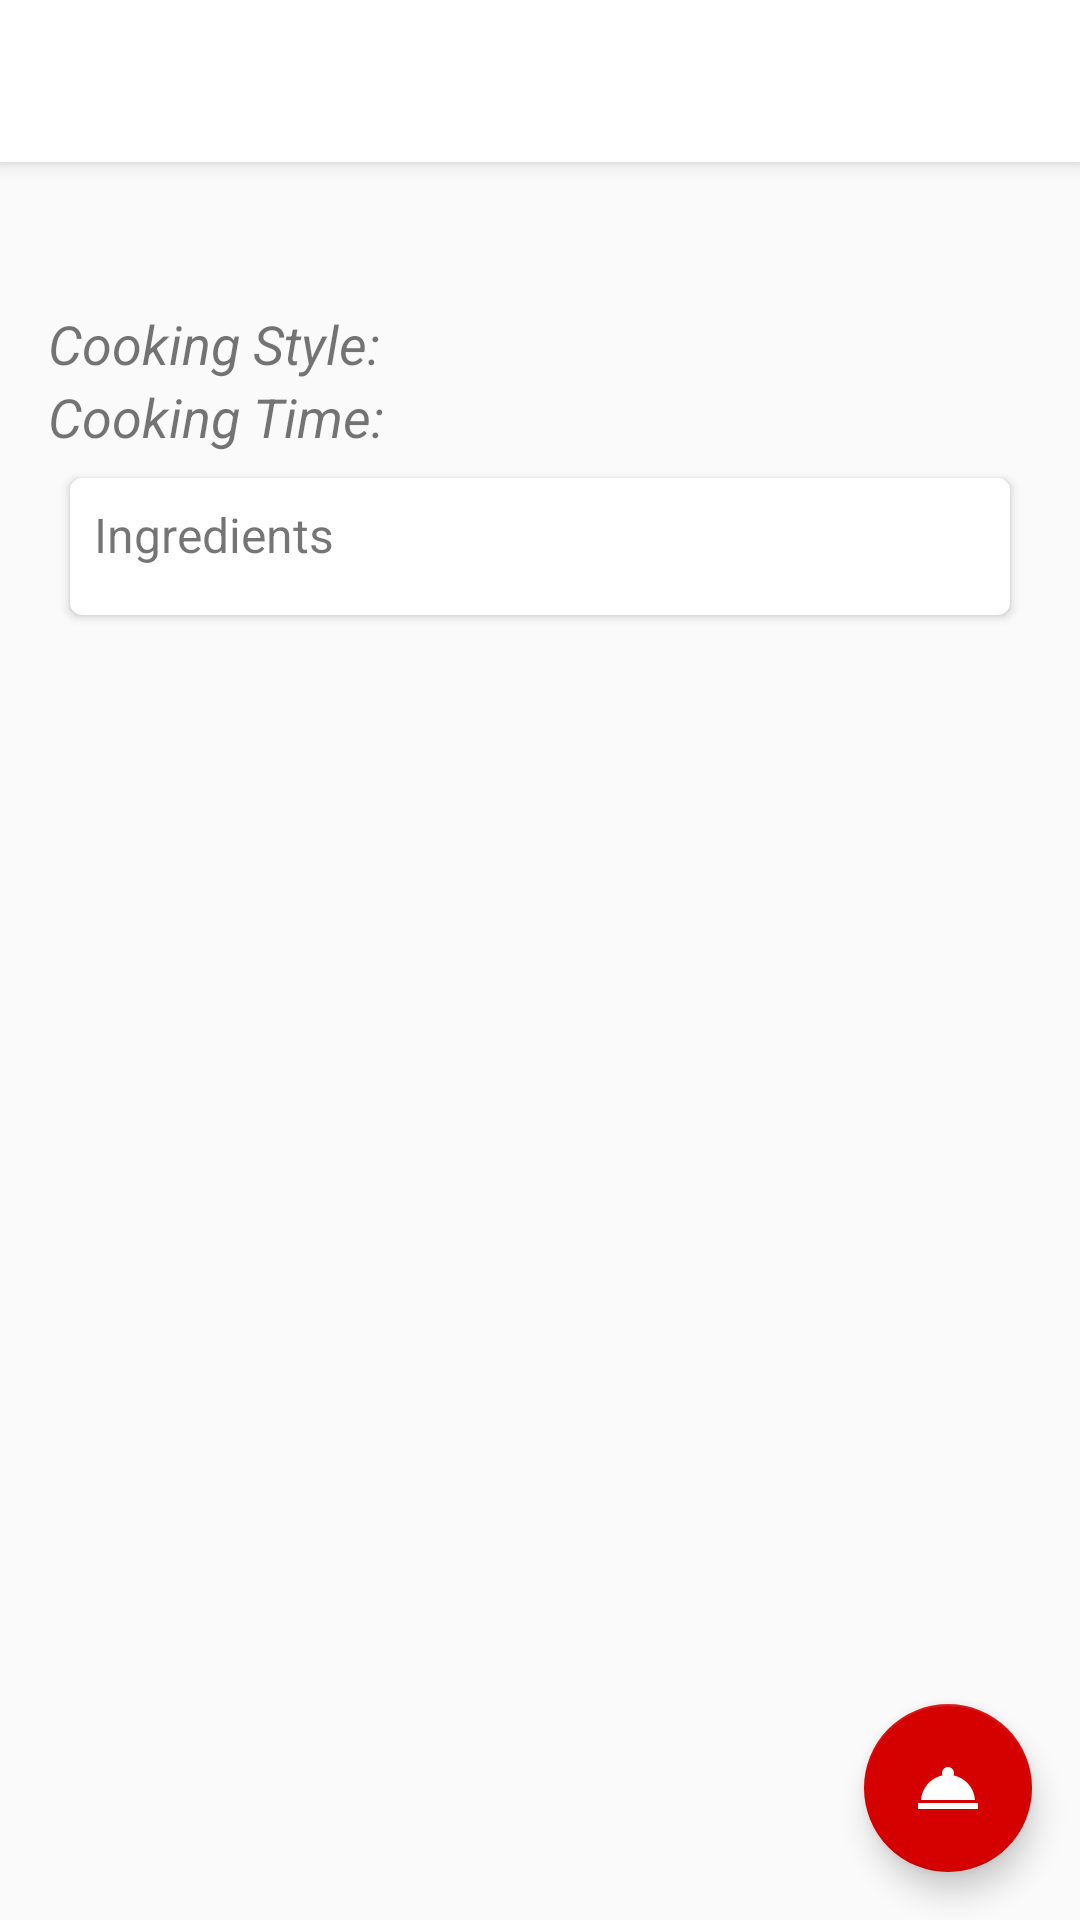

Named icons in this screenshot (1080 x 1920) and their bounding boxes, (x1, y1, x2, y2):
cook service: (864, 1704, 1032, 1872)
